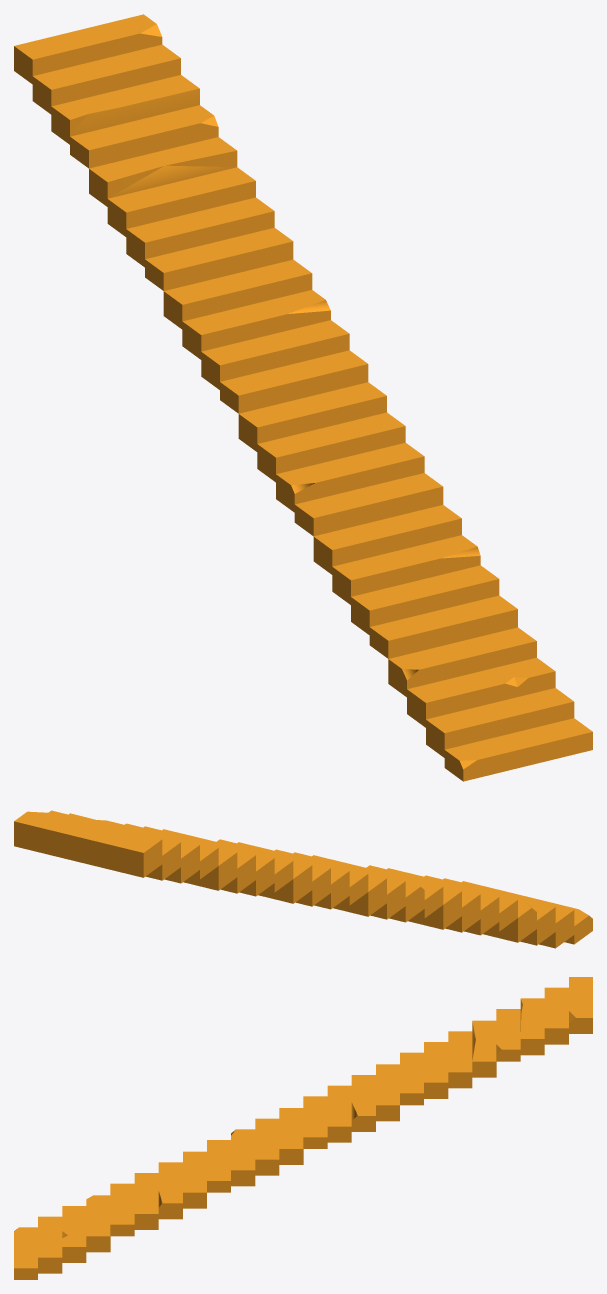
Rendered from SM_Buildings_Stairs_1x3_02P.fbx.
3 views of the same model, one above another, from view 1: azimuth 30°, elevation 25°; view 2: azimuth 150°, elevation 25°; view 3: azimuth 270°, elevation 25° (orthographic). The views are drawn at different scales.
Parts seen in each view (by area): view 1: SM_Buildings_Stairs_1x3_02P; view 2: SM_Buildings_Stairs_1x3_02P; view 3: SM_Buildings_Stairs_1x3_02P.
Boxes of the visible parts, box(x1,y1,x2,y2) form: SM_Buildings_Stairs_1x3_02P: box(14, 14, 592, 781); SM_Buildings_Stairs_1x3_02P: box(14, 810, 592, 948); SM_Buildings_Stairs_1x3_02P: box(14, 977, 592, 1279).
Bounding box in the file's own units: 100 × 300 × 600.
